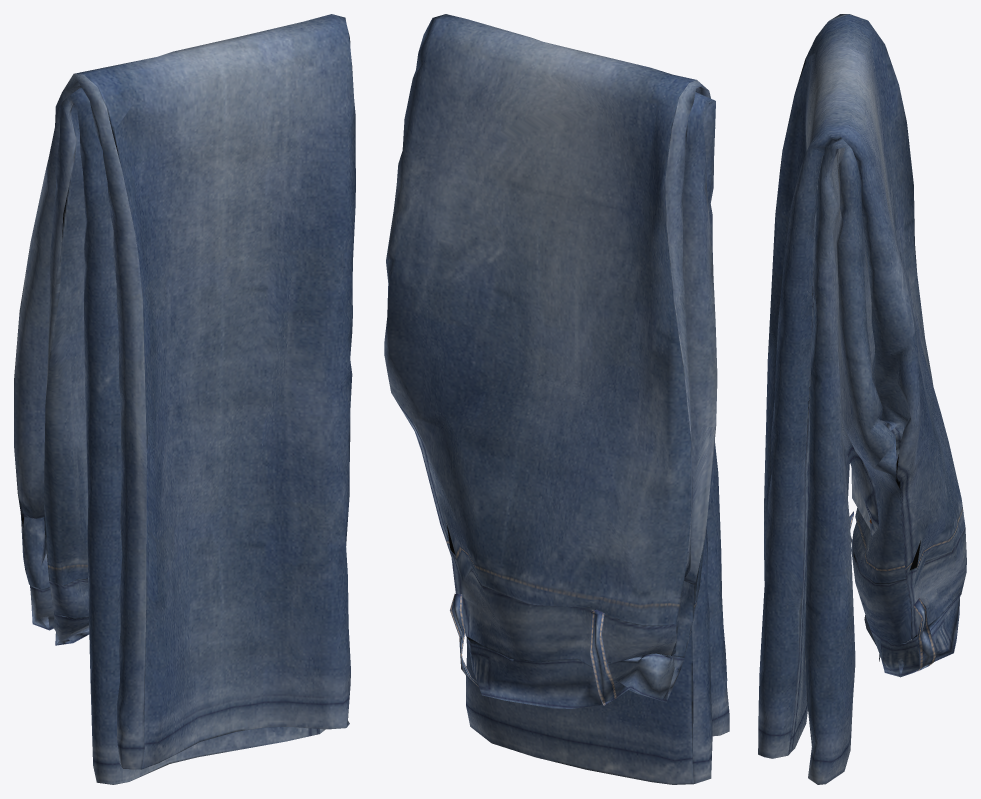
Rendered from Jeans hanger.fbx.
3 views of the same model, side by side, from view 1: azimuth 30°, elevation 25°; view 2: azimuth 150°, elevation 25°; view 3: azimuth 270°, elevation 25° (orthographic). The views are drawn at different scales.
Parts seen in each view (by area): view 1: Jeans hanger; view 2: Jeans hanger; view 3: Jeans hanger.
Boxes of the visible parts, <box> form: Jeans hanger: <box>14,14,355,784</box>; Jeans hanger: <box>384,14,729,784</box>; Jeans hanger: <box>758,14,966,784</box>.
Bounding box in the file's own units: 27.47 × 58.71 × 16.66.
Materials: 1 (1 with a texture image).
